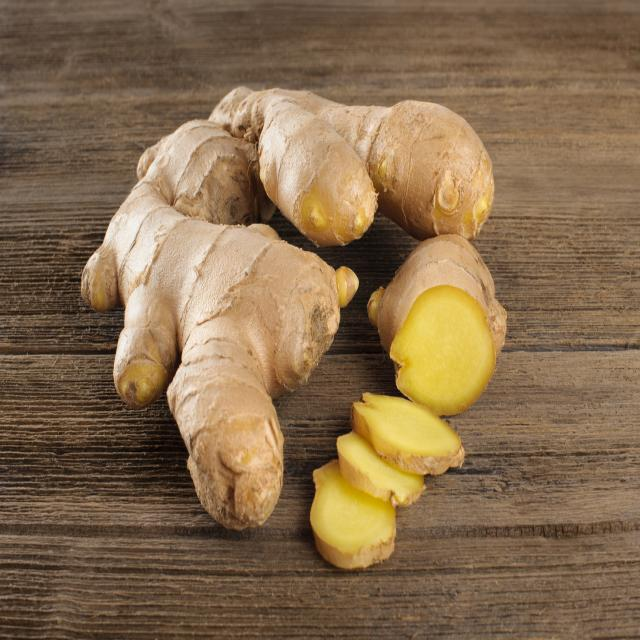ginger-root: (70, 35, 515, 587)
